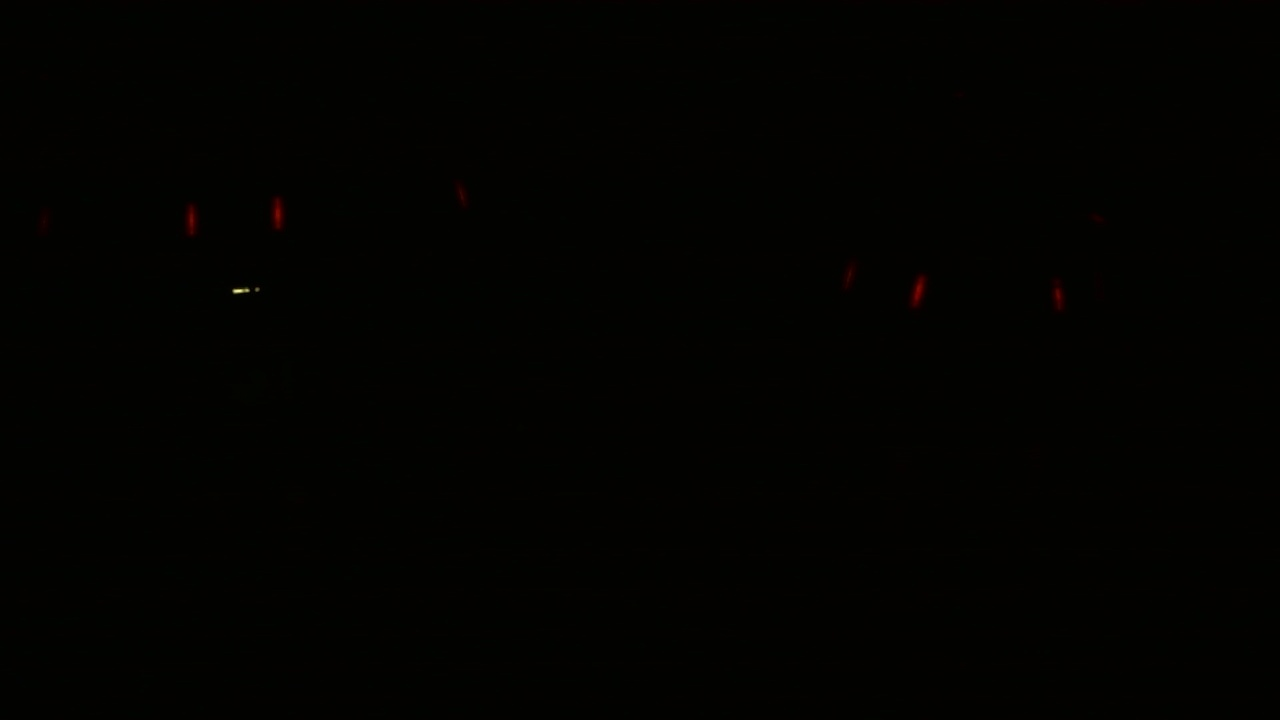pair1: (838, 261, 933, 304), (177, 200, 288, 232)
